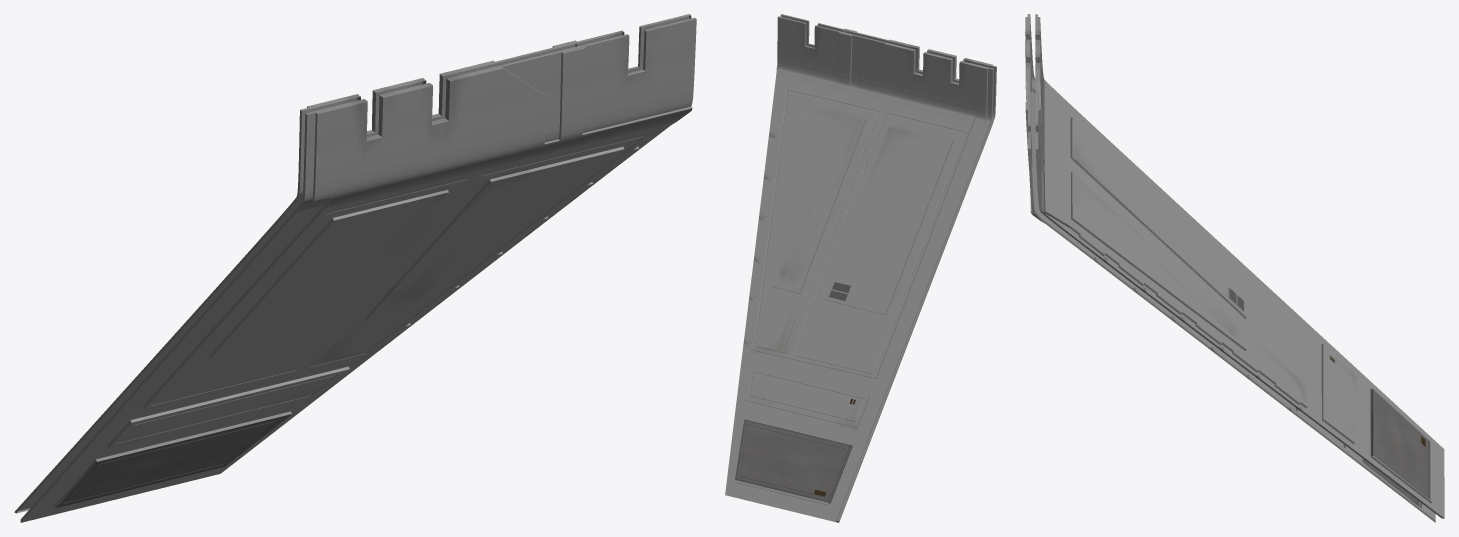
File: alaizquierda.fbx
3 views of the same model, side by side, from view 1: azimuth 30°, elevation 25°; view 2: azimuth 150°, elevation 25°; view 3: azimuth 270°, elevation 25° (orthographic). The views are drawn at different scales.
Parts seen in each view (by area): view 1: alaizquierda; view 2: alaizquierda; view 3: alaizquierda.
Boxes of the visible parts, x1,y1,x2,y2 form: alaizquierda: (14, 14, 696, 522); alaizquierda: (725, 14, 996, 522); alaizquierda: (1025, 14, 1444, 522).
Size of the model in its own units: 49.34 by 74.72 by 64.53.
